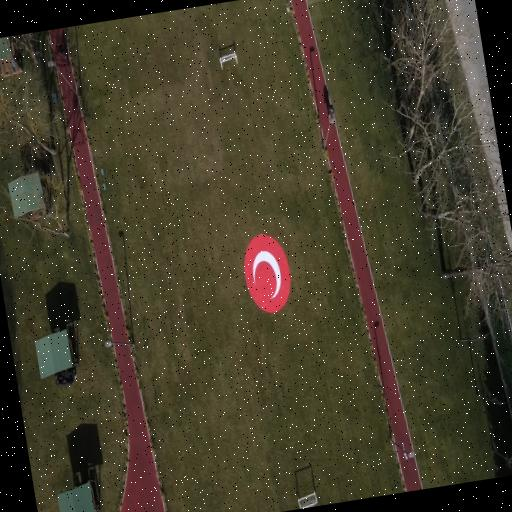UAP: (244, 233, 290, 312)
person: (56, 43, 66, 62), (327, 104, 333, 115)
